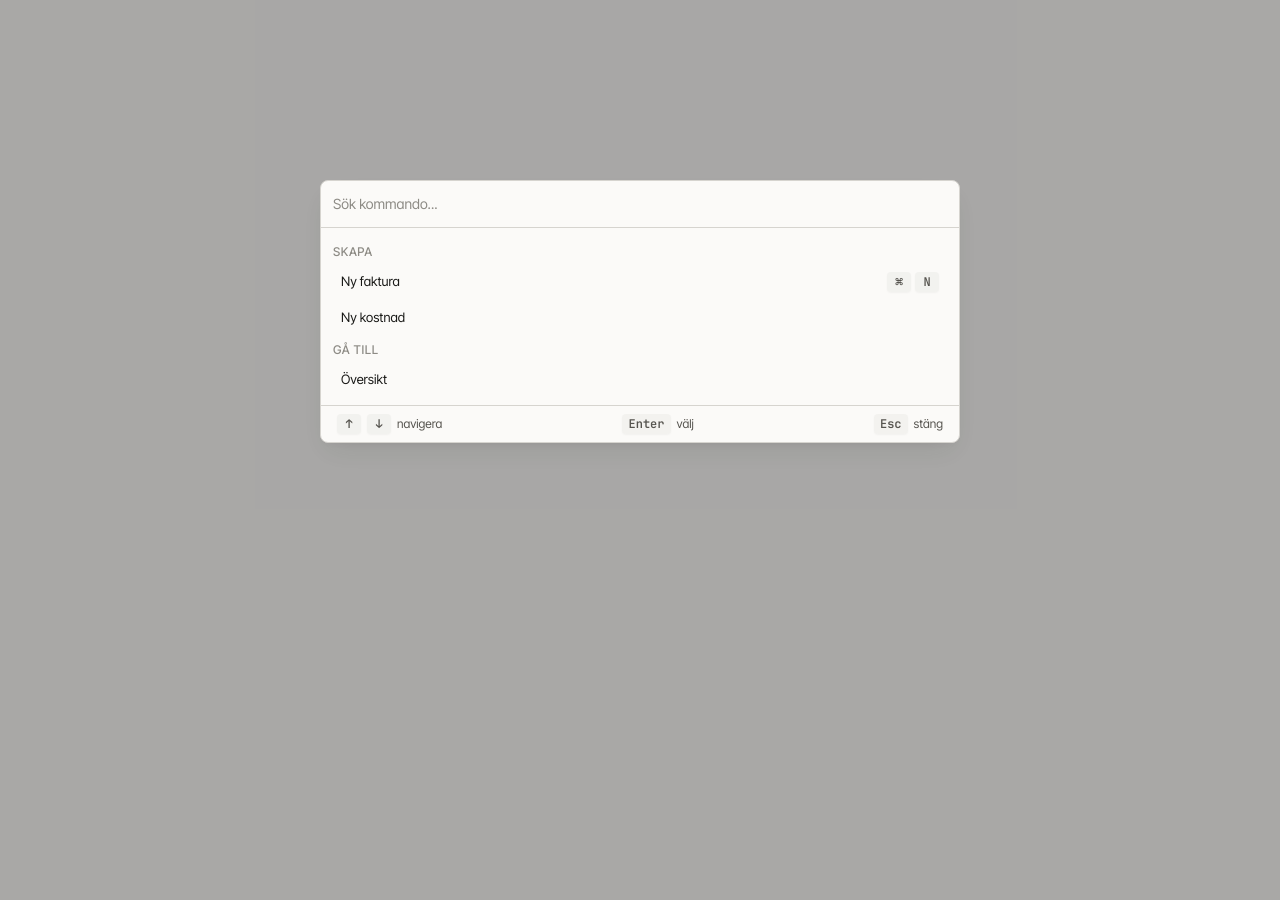
CommandPalette › filters commands when typing
Type "fakt" into the dropdown with test id "command-palette-input" at [640, 204], box [333,193,947,214]
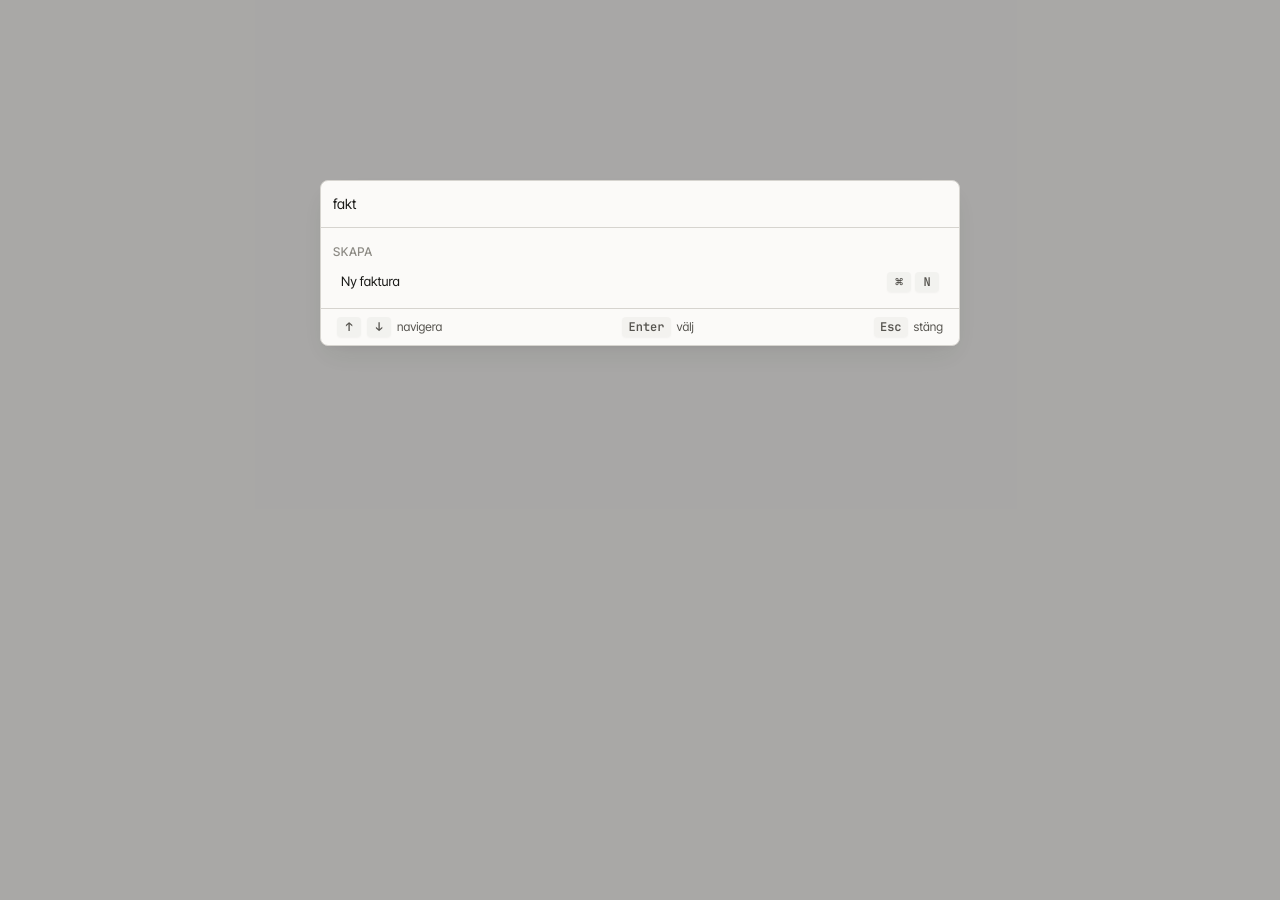
Expected: the text "Ny faktura" is shown, [341,272,400,291]
Result: the option "Översikt" is gone
